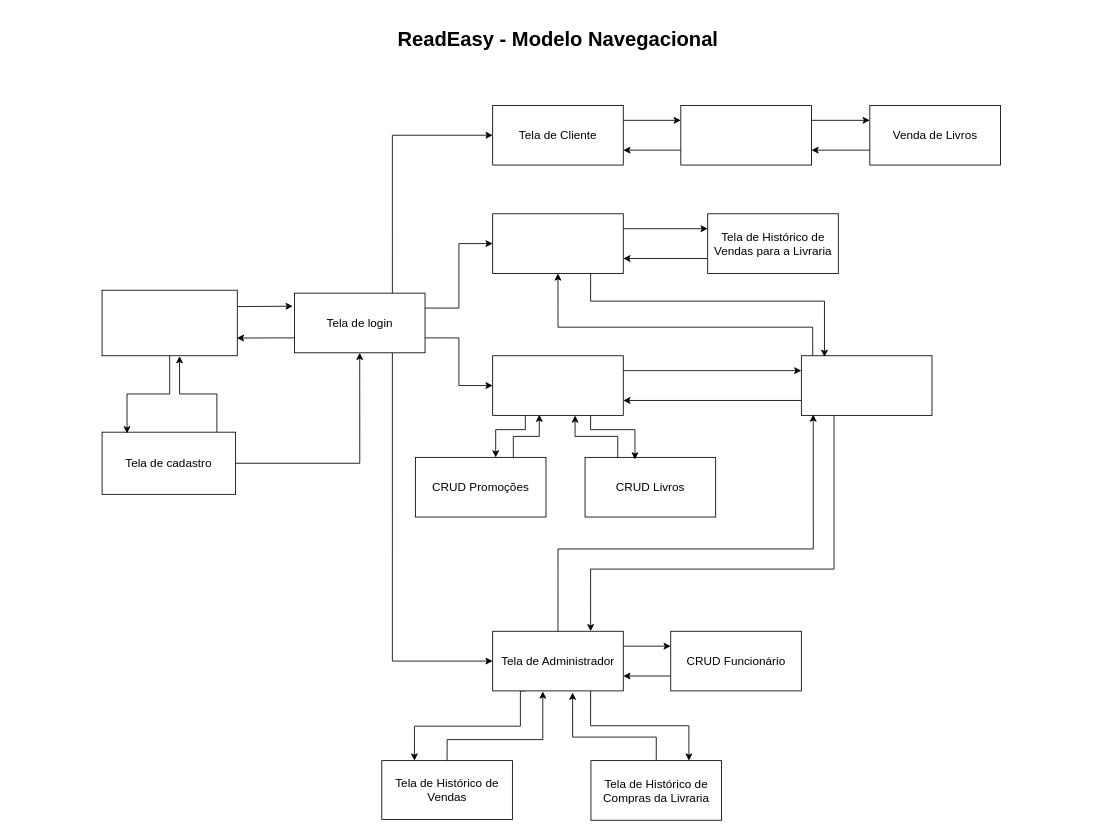
This 1116x835 diagram has some shape labels left out. The shapes that lost their labels are listed below. From the top down, each one's centre as x and y in pixels, then its label:
the point at 745,135: Catálogo de Livros
the point at 557,243: Tela de Fornecedor
the point at 169,322: Tela principal
the point at 557,385: Tela de Funcionário
the point at 866,385: Tela de Estoque
